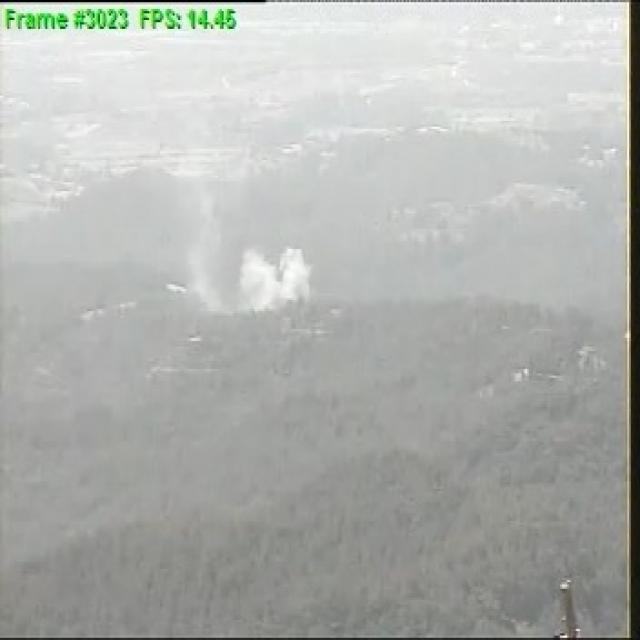smoke: (195, 239, 310, 311)
